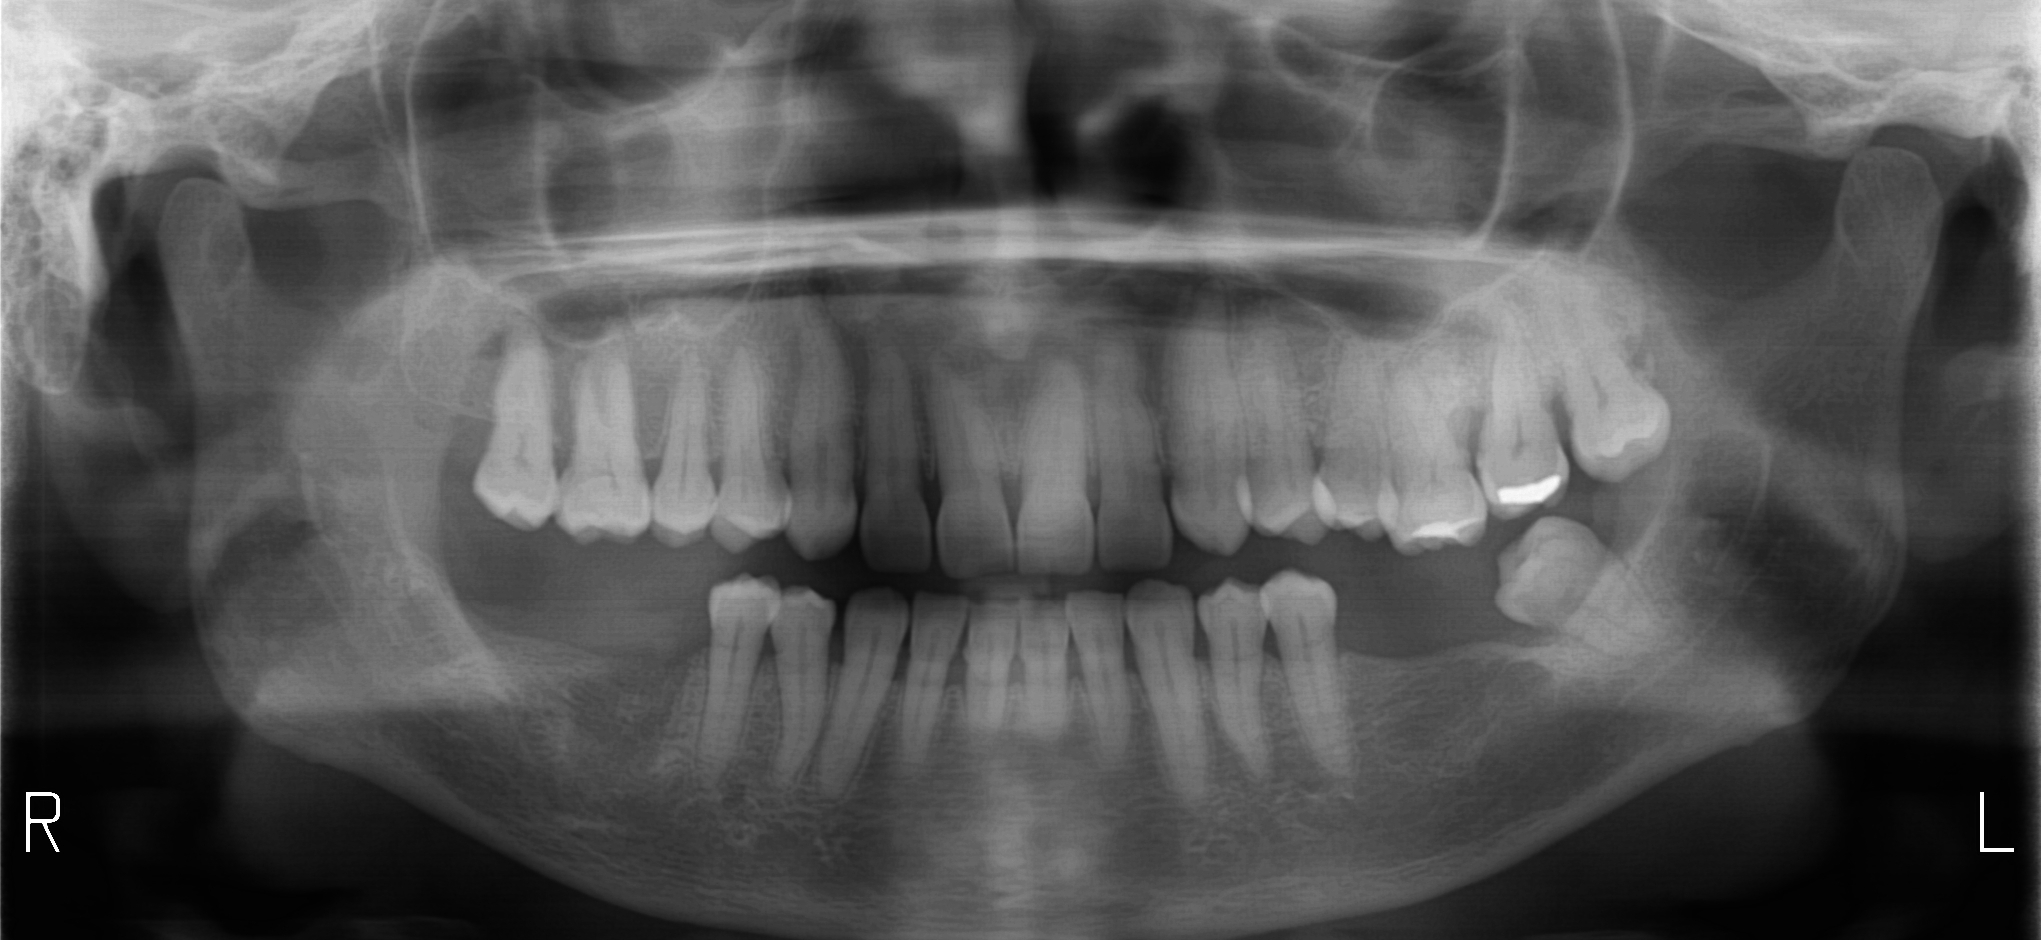cavity: (1454, 404, 1471, 452)
